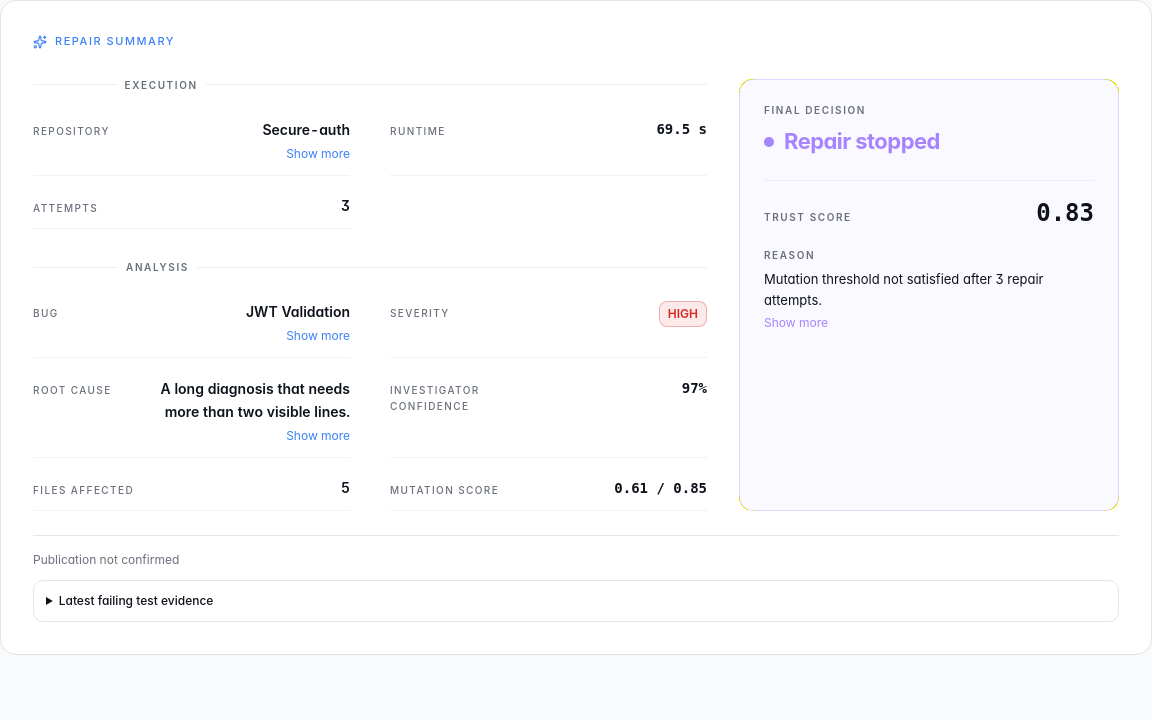
Test: expands overflowing text in place and keeps failure evidence collapsed
Click the button with aria-label "Show more: Root cause".
click(318, 436)  # box [286,428,350,444]
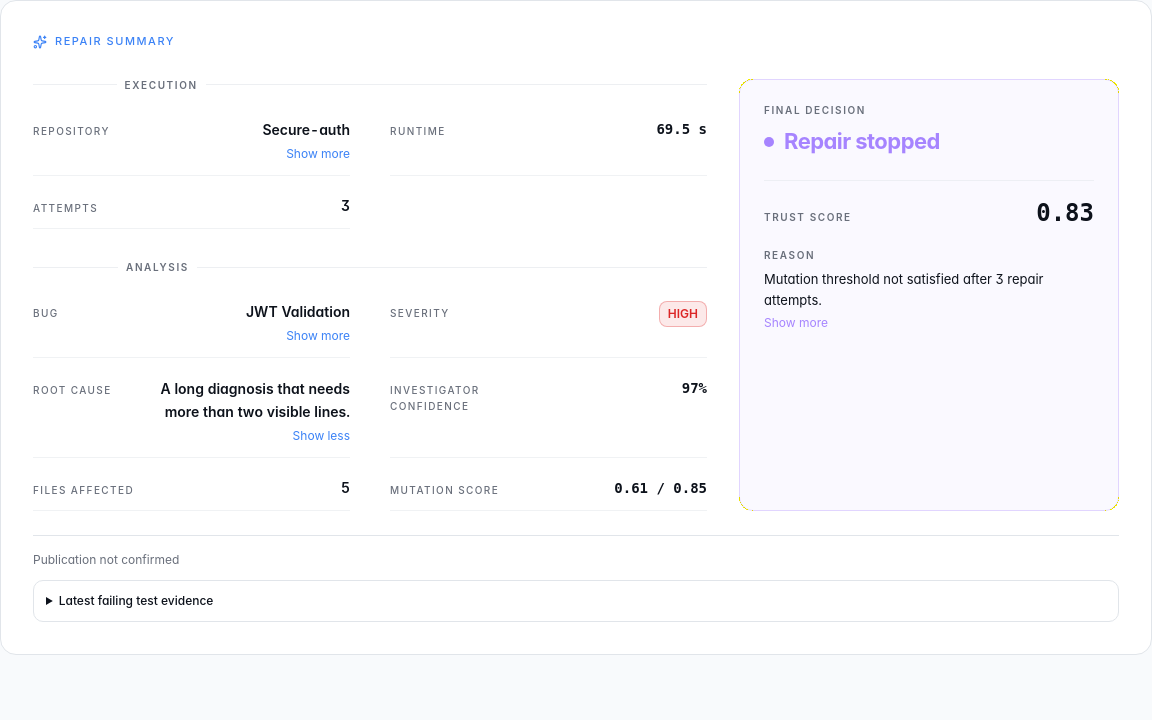
Expected: the text "A long diagnosis that needs more than two visible lines." is shown once, [128,378,350,424]
Now the button with aria-label "Show less: Root cause" is expanded
Click the button with aria-label "Show less: Root cause".
click(321, 436)  # box [293,428,350,444]
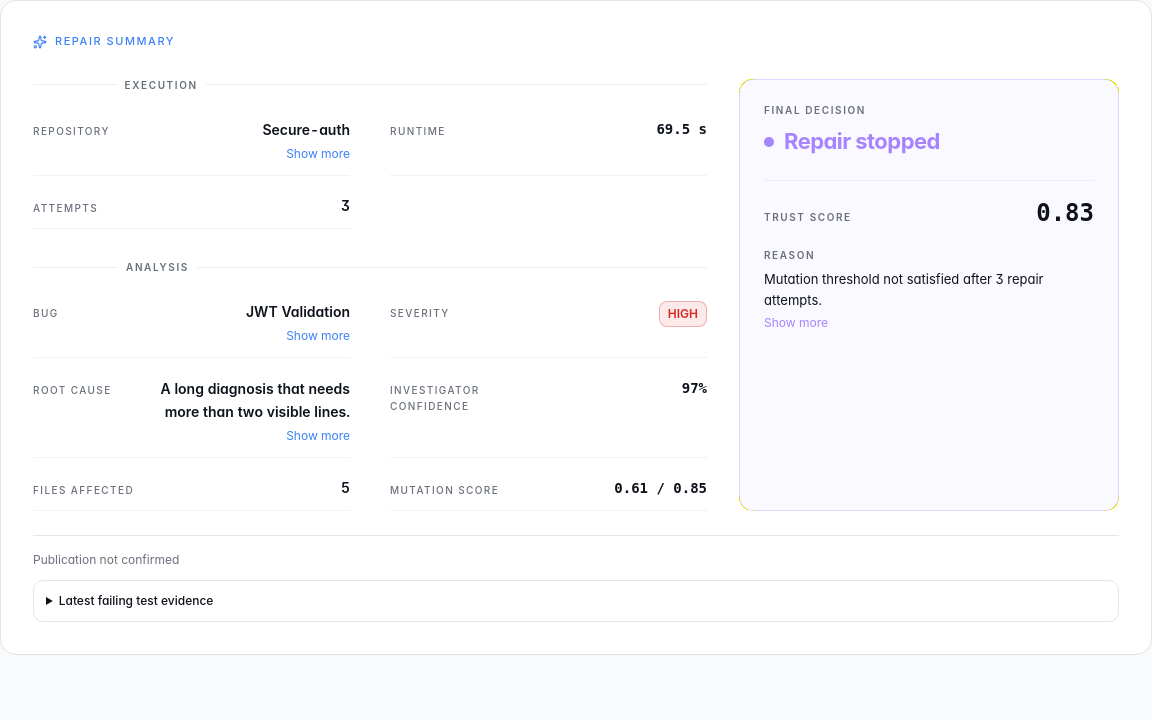
Now the button with aria-label "Show more: Root cause" is collapsed, box [286,428,350,444]
